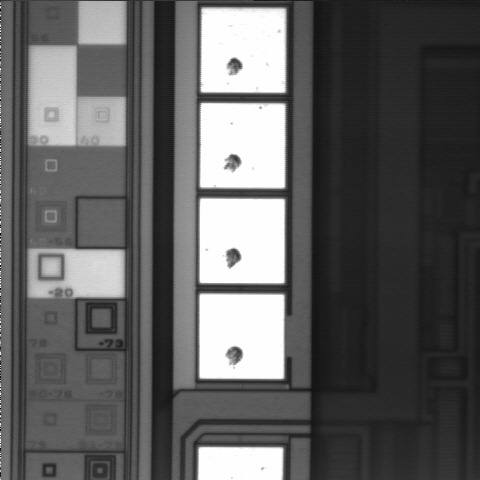pad: (201, 8, 286, 93), (200, 103, 285, 188), (199, 294, 284, 379), (200, 199, 285, 283)
